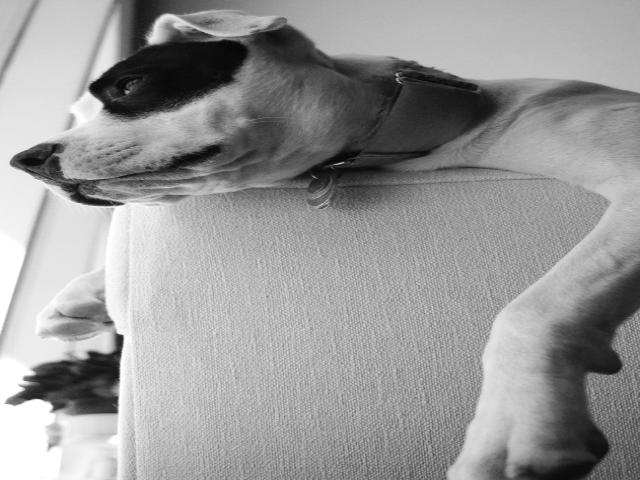Dog: (8, 8, 640, 480)
